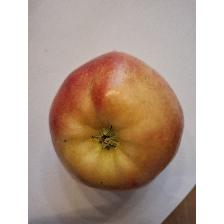Apfel: (43, 47, 187, 193)
